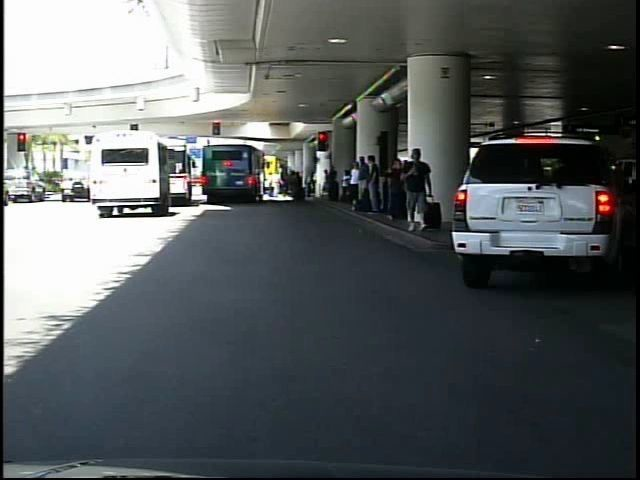person: (401, 146, 433, 236)
